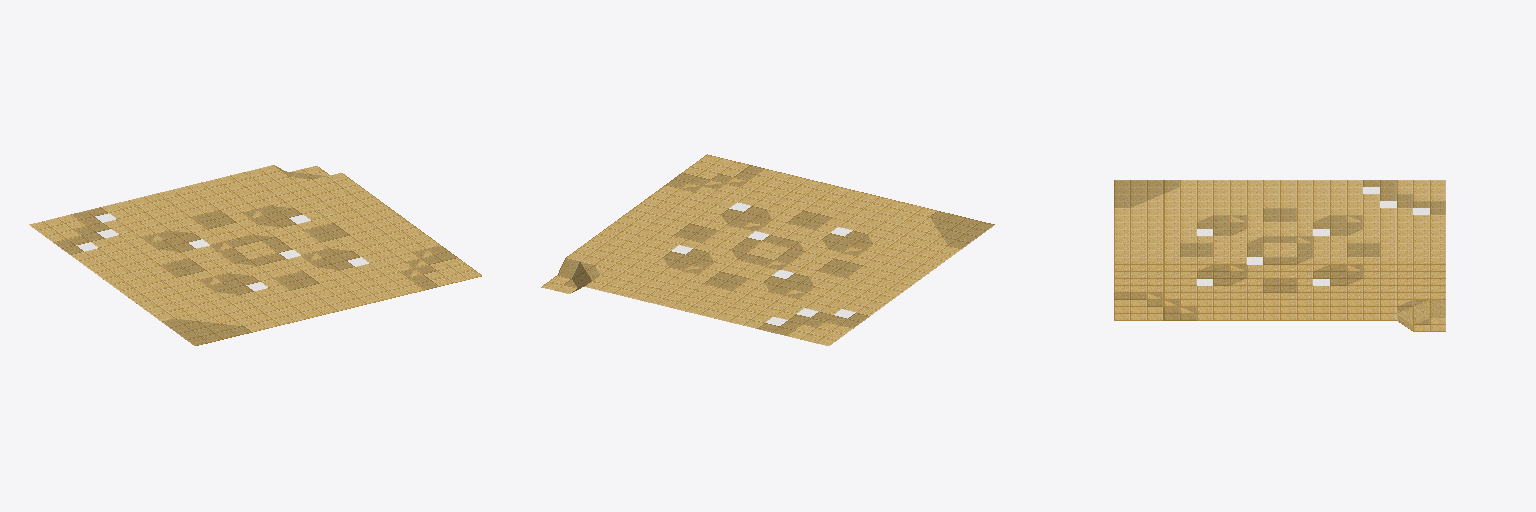
3 views of the same model, side by side, from view 1: azimuth 30°, elevation 25°; view 2: azimuth 150°, elevation 25°; view 3: azimuth 270°, elevation 25° (orthographic).
Visible parts, largest first — view 1: FloorCentral_4; view 2: FloorCentral_4; view 3: FloorCentral_4.
Part boxes in pixels (bbox=[...]): FloorCentral_4: bbox=[29, 165, 481, 345]; FloorCentral_4: bbox=[541, 154, 994, 345]; FloorCentral_4: bbox=[1114, 180, 1445, 331].
Size of the model in its own units: 20 by 0.7379 by 20.
9 materials, 8 textured.